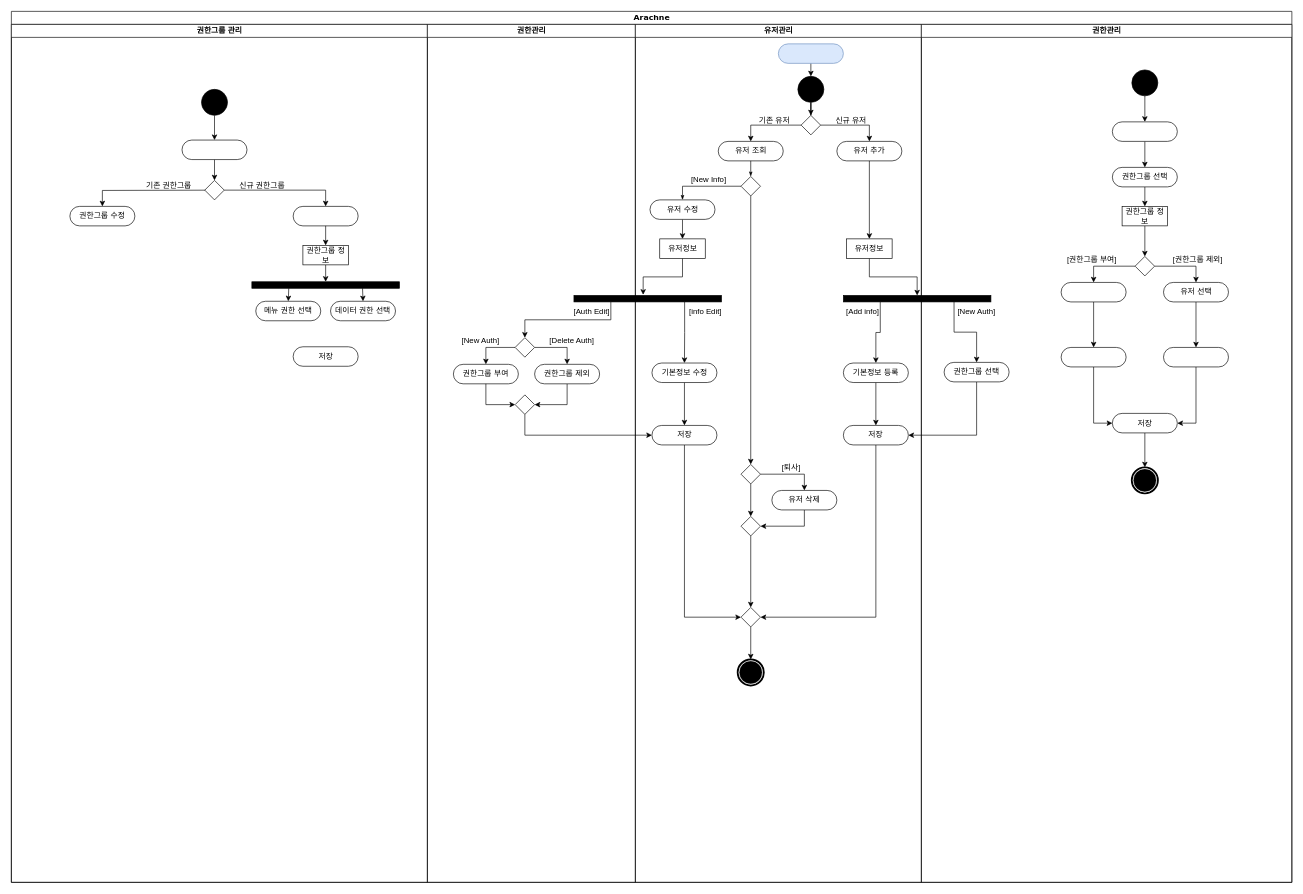
The diagram is 1303 pixels wide and 894 high, and some of its shapes have lost their labels. Each missing label, with the centre of its shape:
권한 조회: [1144,131]
권한그룹 목록 조회: [214,149]
권한그룹 생성: [325,216]
권한그룹에 유저 추가: [1093,357]
권한그룹에서 유저 삭제: [1195,357]
바오밥요청: [810,53]
유저 검색: [1093,292]
